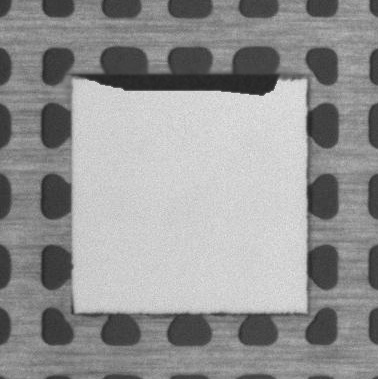DIE_BROKEN: (68, 69, 284, 97)
